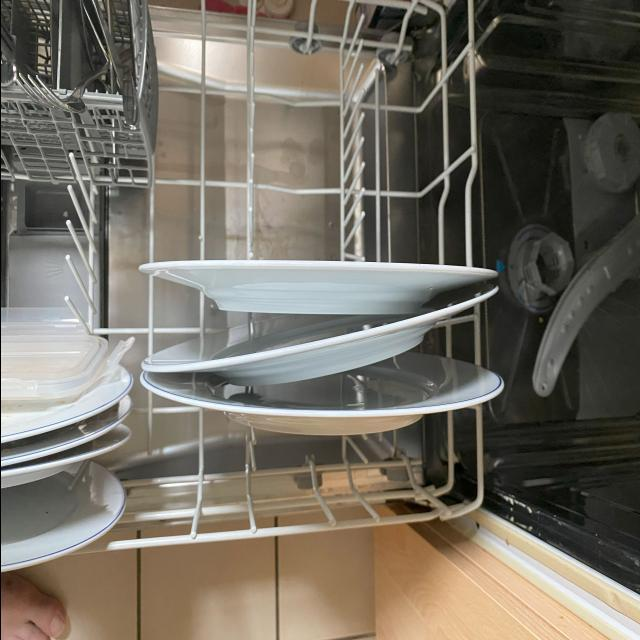empty_slot: (172, 2, 451, 253)
